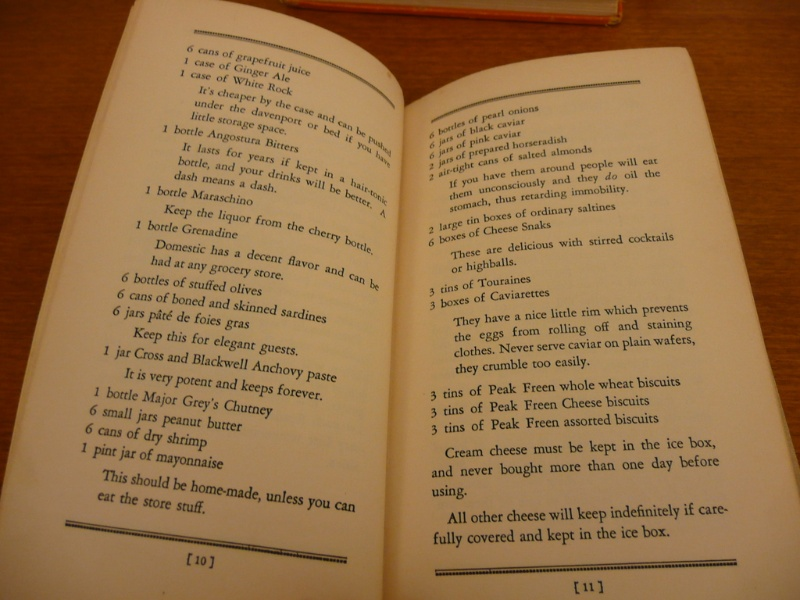book: (26, 3, 797, 600)
